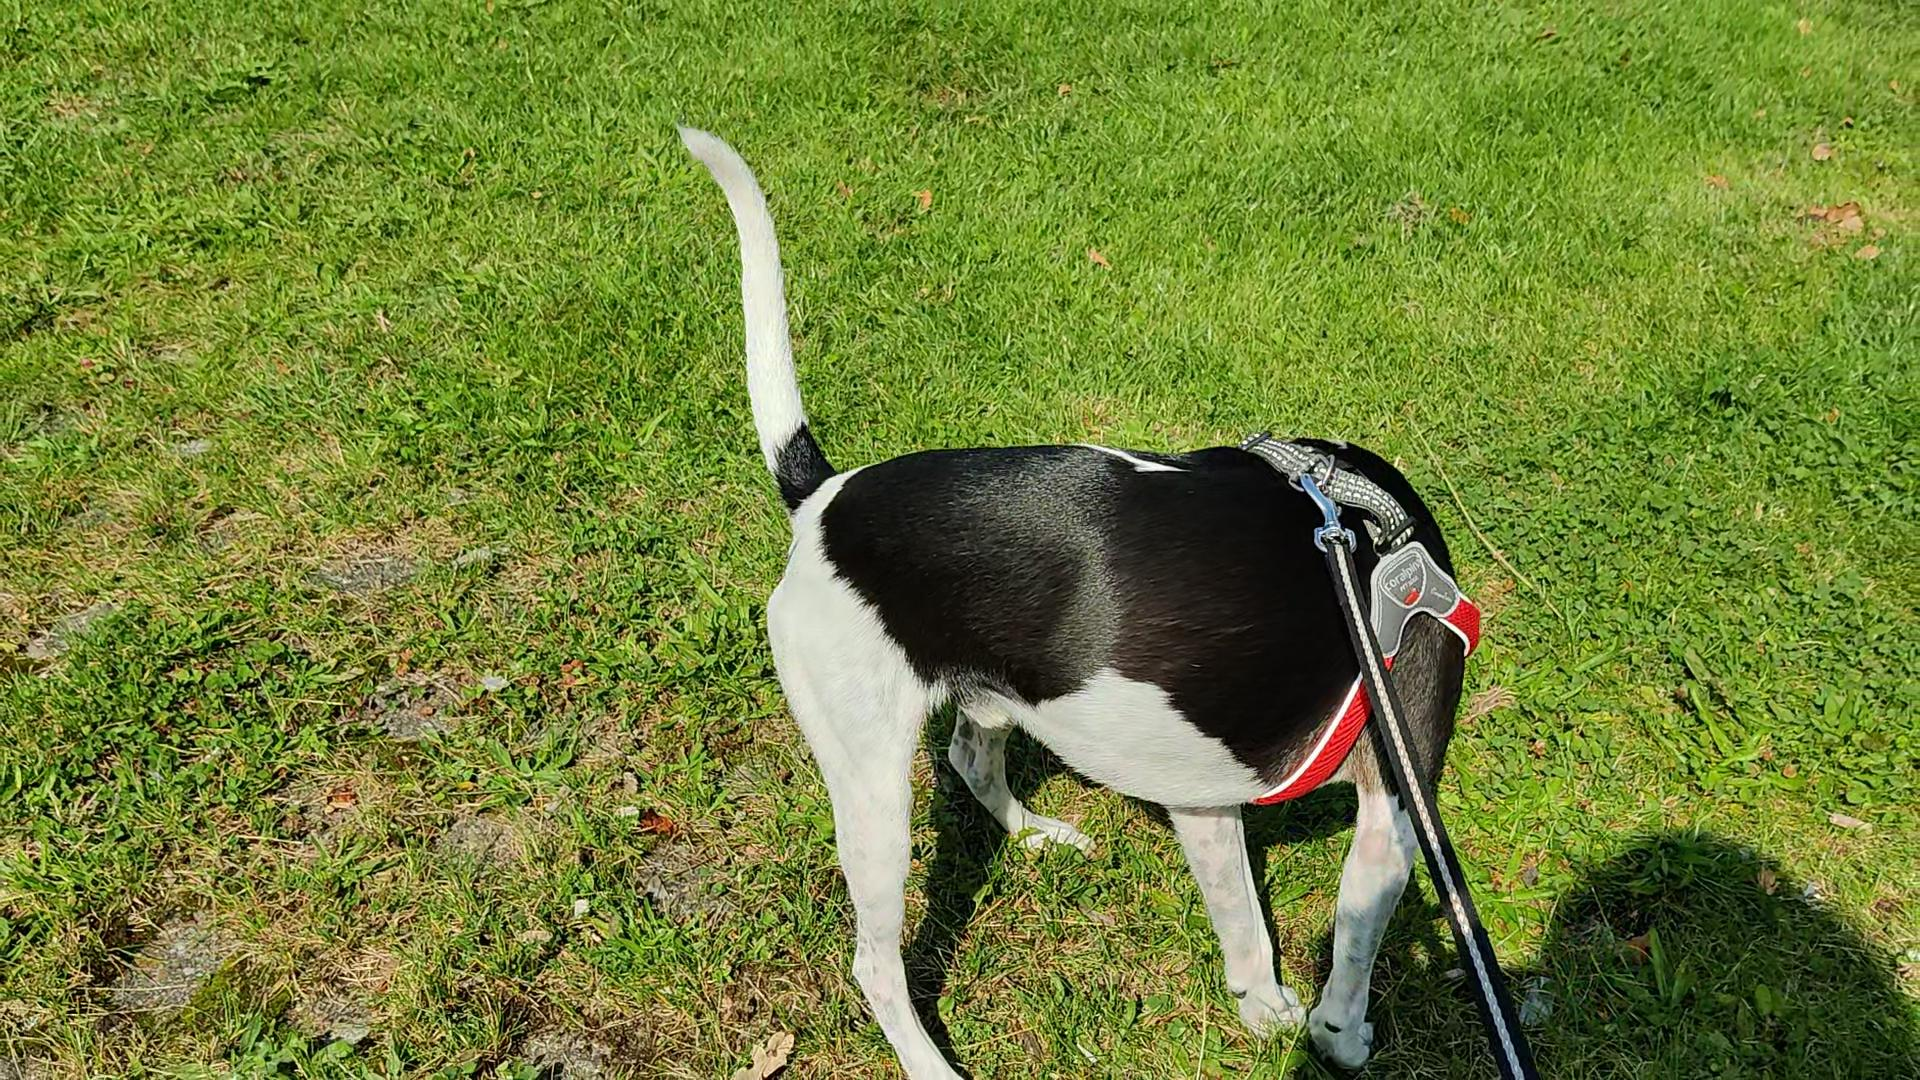Dog: (651, 107, 1481, 1079)
